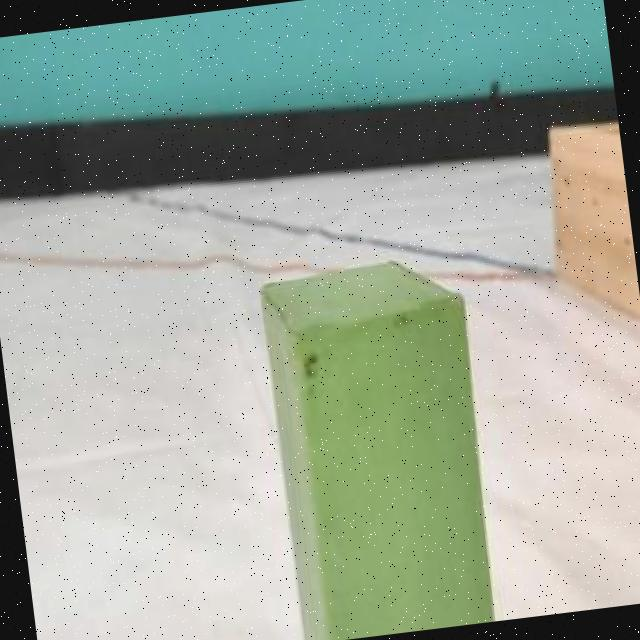greenbox: (254, 245, 507, 640)
